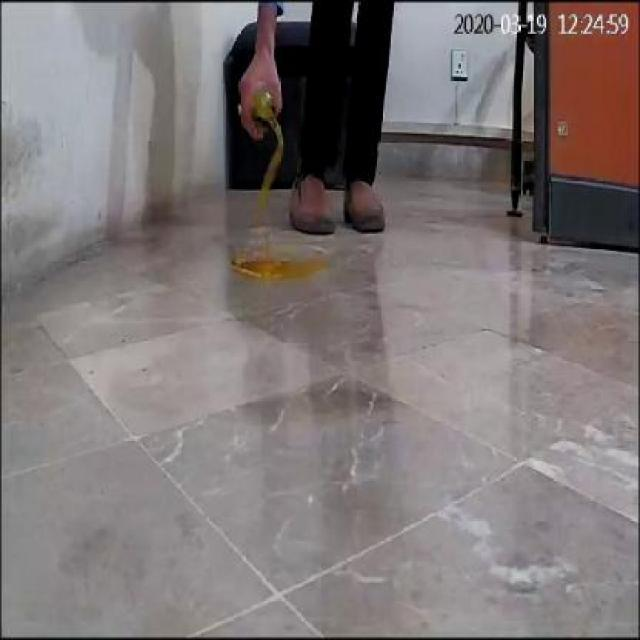spill: (228, 246, 332, 288)
